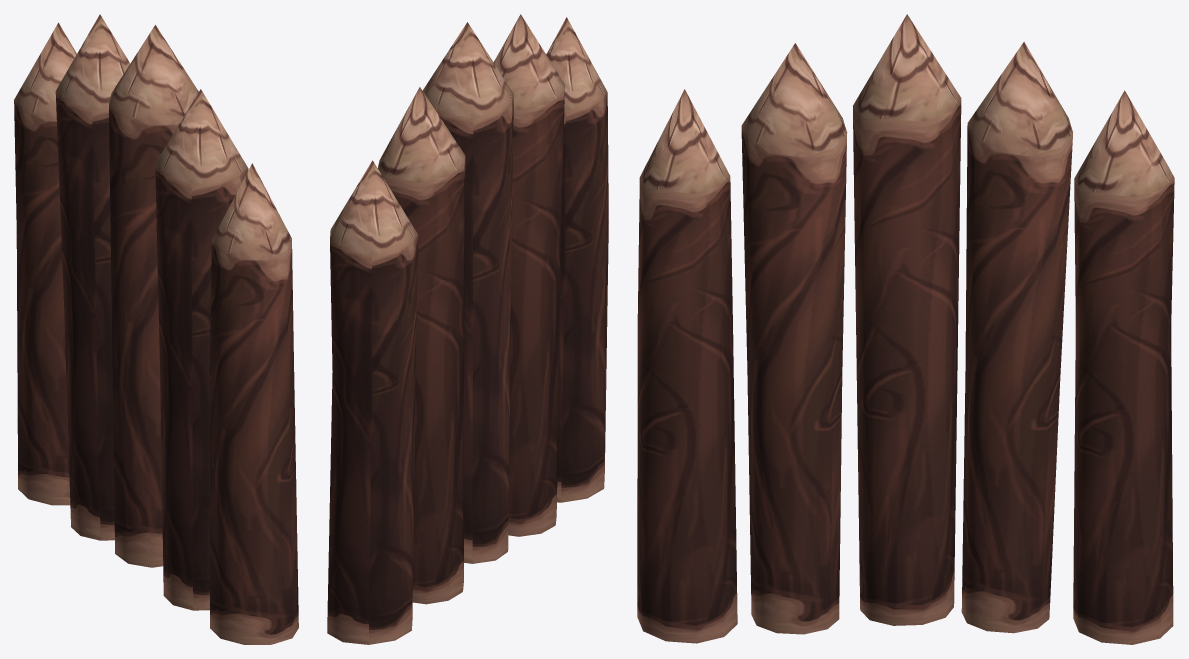
File: wooden_wall_02.fbx
The picture shows the model from 3 angles, left to right: view 1: azimuth 30°, elevation 25°; view 2: azimuth 150°, elevation 25°; view 3: azimuth 270°, elevation 25°; orthographic projection. The views are drawn at different scales.
Parts seen in each view (by area): view 1: wooden_wall_04; view 2: wooden_wall_04; view 3: wooden_wall_04.
Boxes of the visible parts, <box> form: wooden_wall_04: <box>14,14,298,644</box>; wooden_wall_04: <box>327,14,608,644</box>; wooden_wall_04: <box>637,14,1174,644</box>.
Size of the model in its own units: 1.53 by 9.51 by 7.61.
